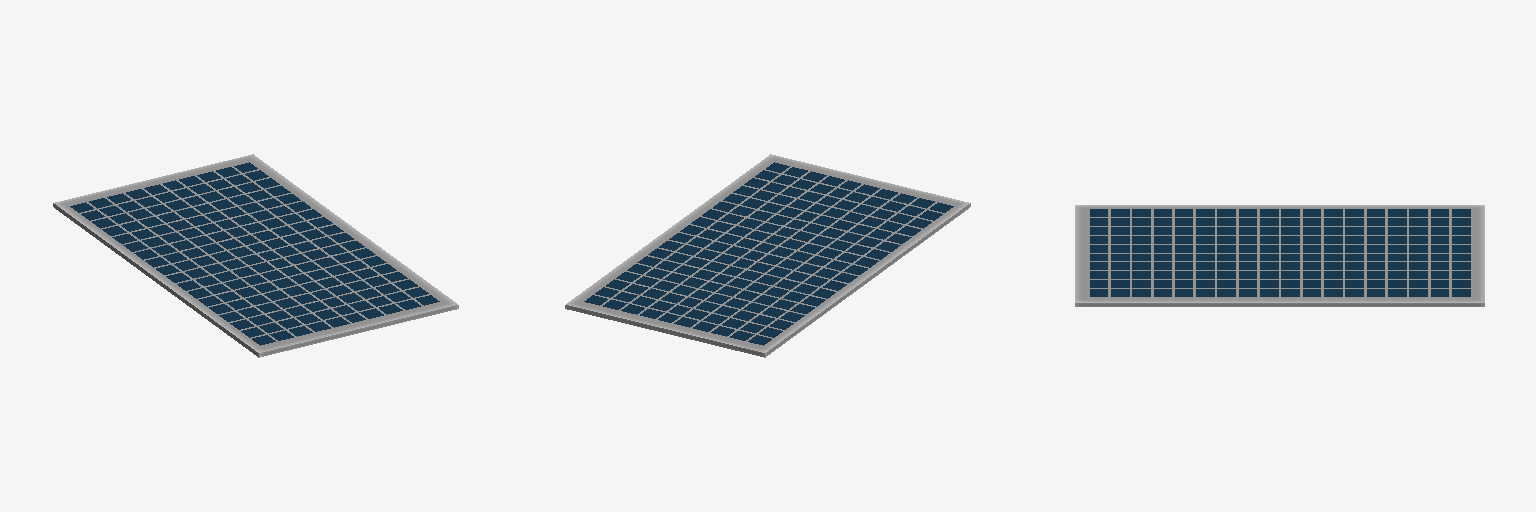
3 renders of one model, left to right at view 1: azimuth 30°, elevation 25°; view 2: azimuth 150°, elevation 25°; view 3: azimuth 270°, elevation 25°, orthographic.
Parts seen in each view (by area): view 1: Eridani_Solar_1_Panel_0_1_L; view 2: Eridani_Solar_1_Panel_0_1_L; view 3: Eridani_Solar_1_Panel_0_1_L.
Part boxes in pixels (x1,y1,x2,y2): Eridani_Solar_1_Panel_0_1_L: (53,154,458,357); Eridani_Solar_1_Panel_0_1_L: (565,154,970,357); Eridani_Solar_1_Panel_0_1_L: (1075,205,1484,306).
Bounding box in the file's own units: 0.4702 × 0.01 × 0.8375.
Materials: 1 (1 with a texture image).